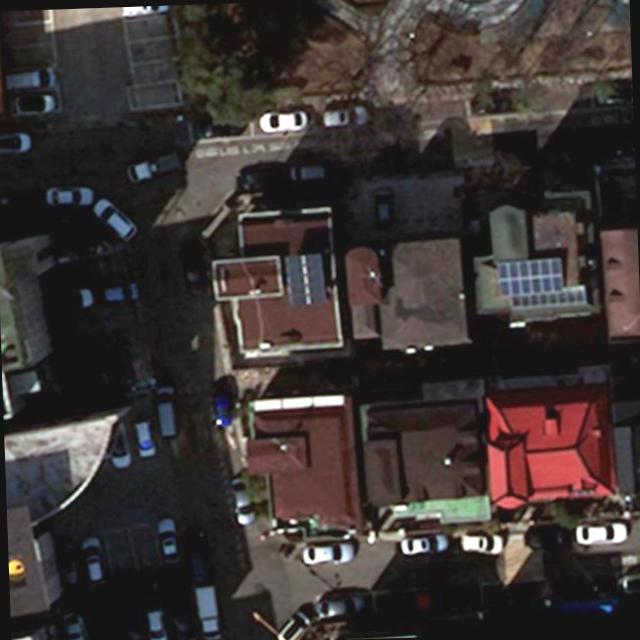solar: (496, 255, 563, 298), (284, 251, 328, 307)
